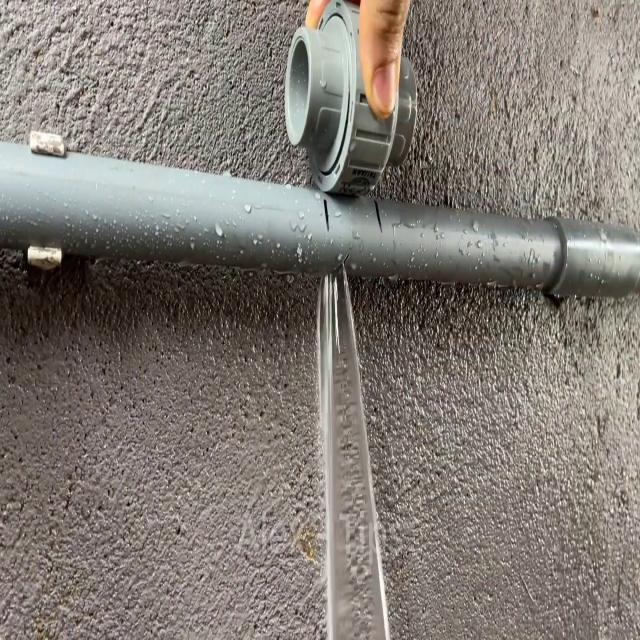leak: (320, 260, 393, 640)
